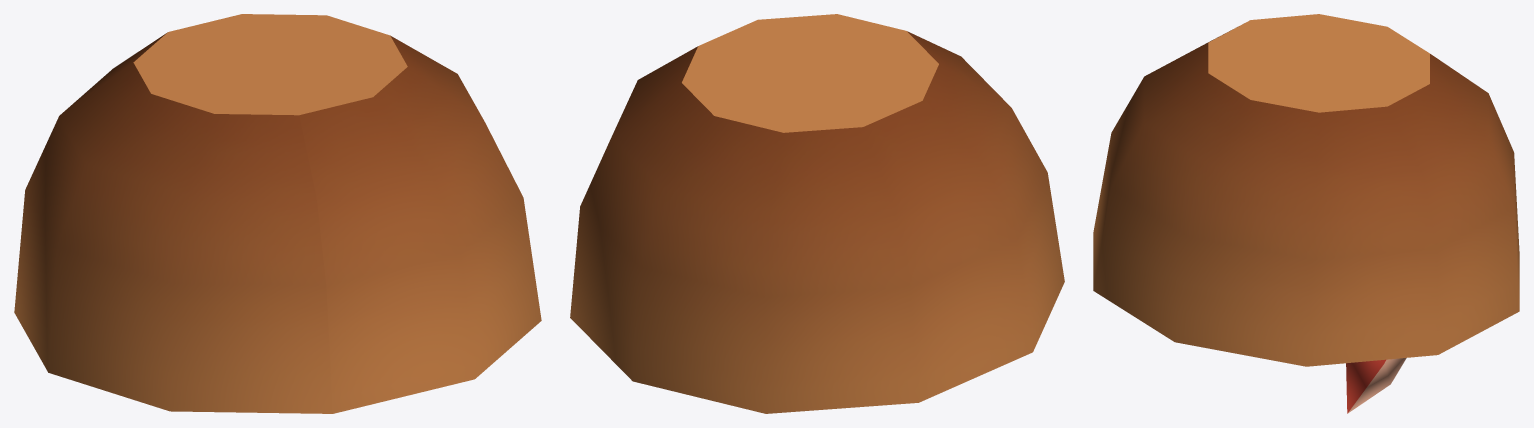
File: H_Bowl_Lobster.fbx
3 renders of one model, left to right at view 1: azimuth 30°, elevation 25°; view 2: azimuth 150°, elevation 25°; view 3: azimuth 270°, elevation 25°, orthographic. The views are drawn at different scales.
Parts seen in each view (by area): view 1: BowlLobster; view 2: BowlLobster; view 3: BowlLobster.
Boxes of the visible parts, left/top/right/bottom form: BowlLobster: left=14, top=14, right=541, bottom=413; BowlLobster: left=570, top=14, right=1064, bottom=413; BowlLobster: left=1093, top=14, right=1519, bottom=413.
Bounding box in the file's own units: 27.48 × 18.42 × 26.1.
